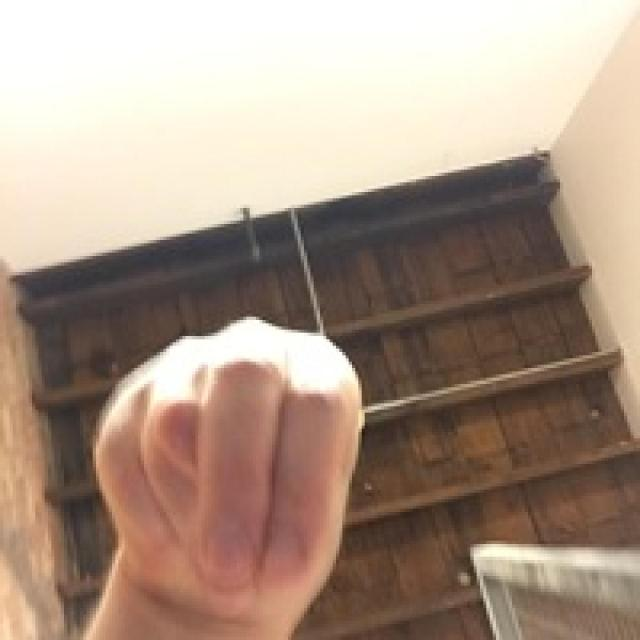N: (45, 285, 377, 640)
